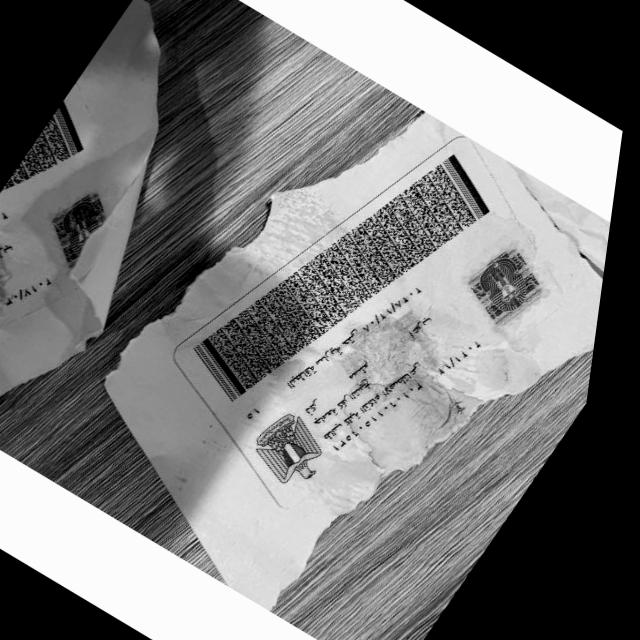id_card: (106, 114, 603, 608)
